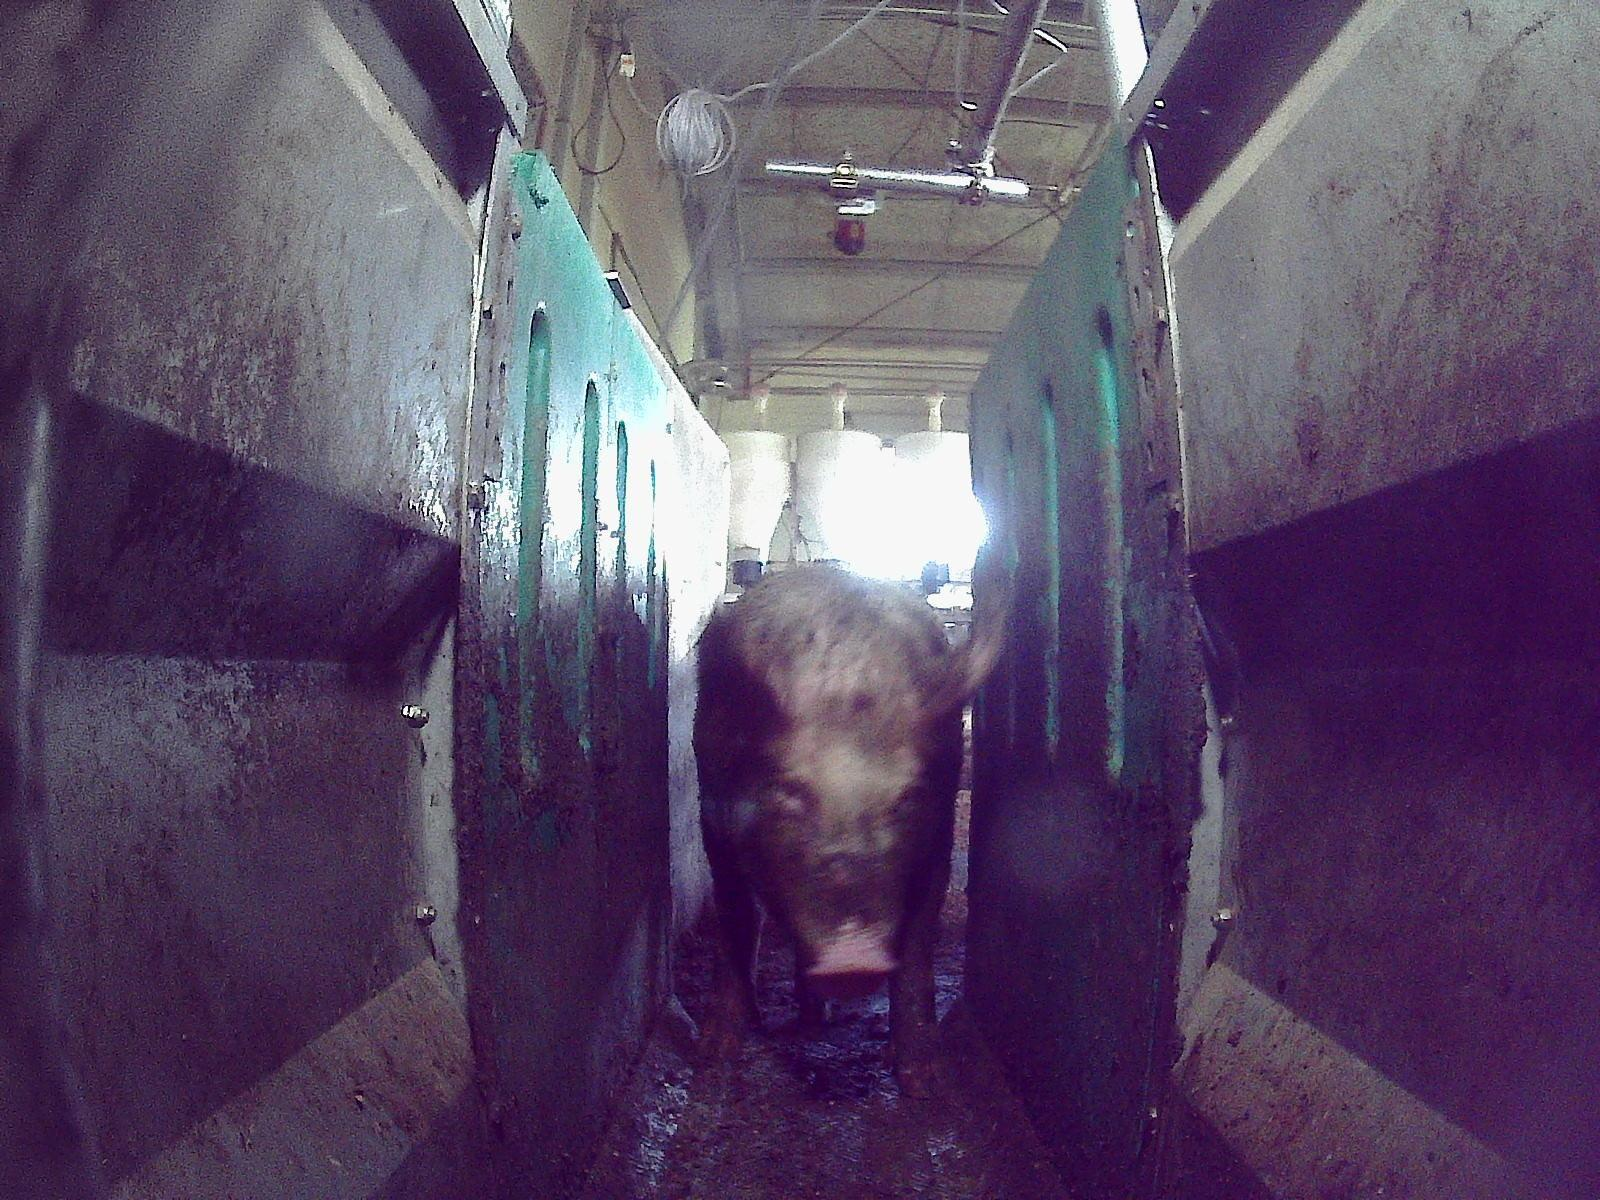Face: (755, 699, 925, 991)
